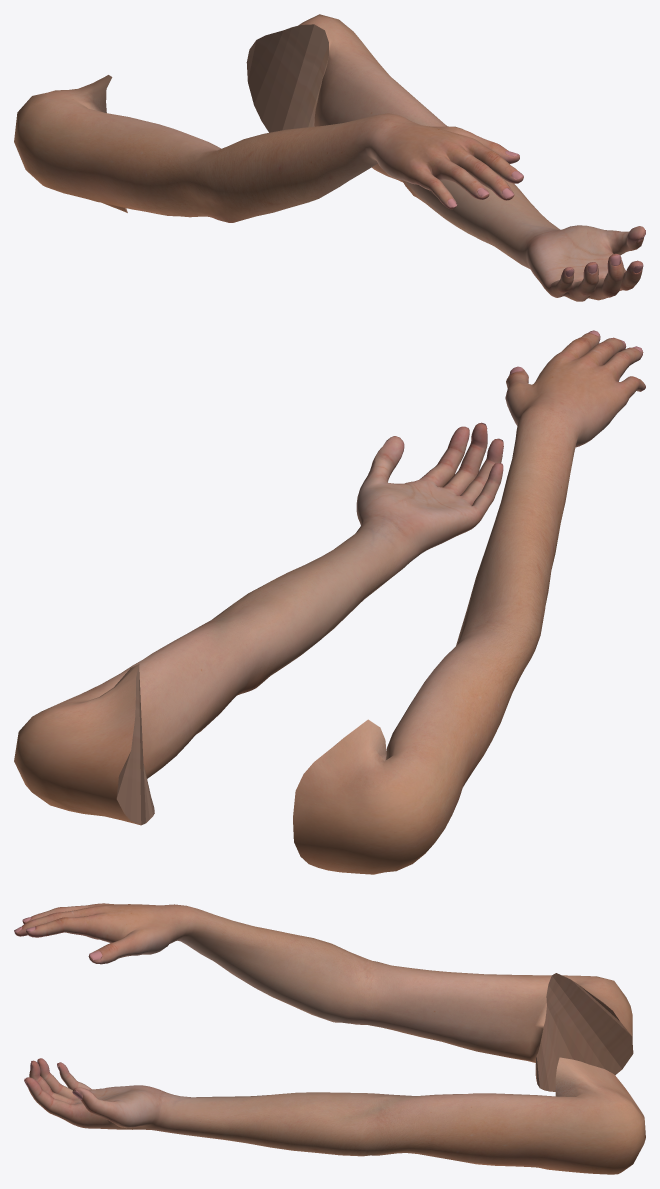
The model's file is B2_Pose_TaySatKhuan.fbx.
3 renders of one model, top to bottom at view 1: azimuth 30°, elevation 25°; view 2: azimuth 150°, elevation 25°; view 3: azimuth 270°, elevation 25°, orthographic. The views are drawn at different scales.
Visible parts, largest first — view 1: Tay_00, Tay_01; view 2: Tay_00, Tay_01; view 3: Tay_00, Tay_01.
Part boxes in pixels (bbox=[...]): Tay_00: bbox=[14, 75, 523, 222]; Tay_01: bbox=[246, 14, 645, 301]; Tay_00: bbox=[293, 330, 645, 874]; Tay_01: bbox=[14, 422, 503, 825]; Tay_00: bbox=[14, 903, 633, 1091]; Tay_01: bbox=[24, 1057, 645, 1174].
Size of the model in its own units: 14.35 by 9.47 by 25.78.
Materials: 1 (1 with a texture image).
